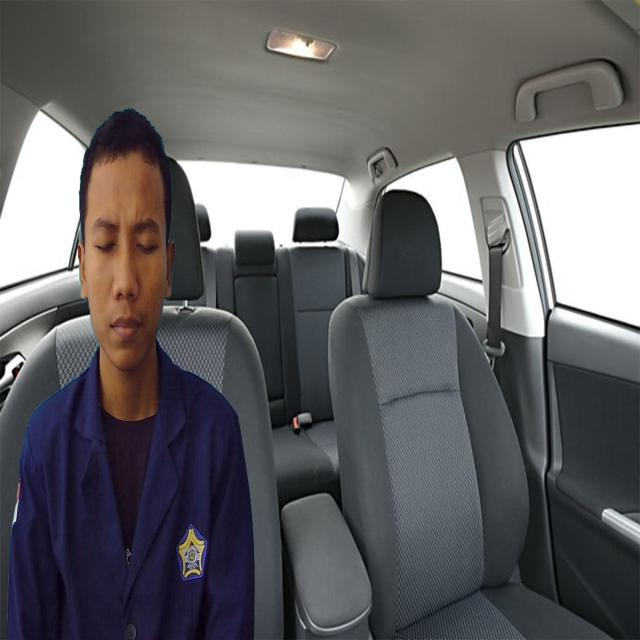no-seatbelt: (77, 139, 172, 374)
